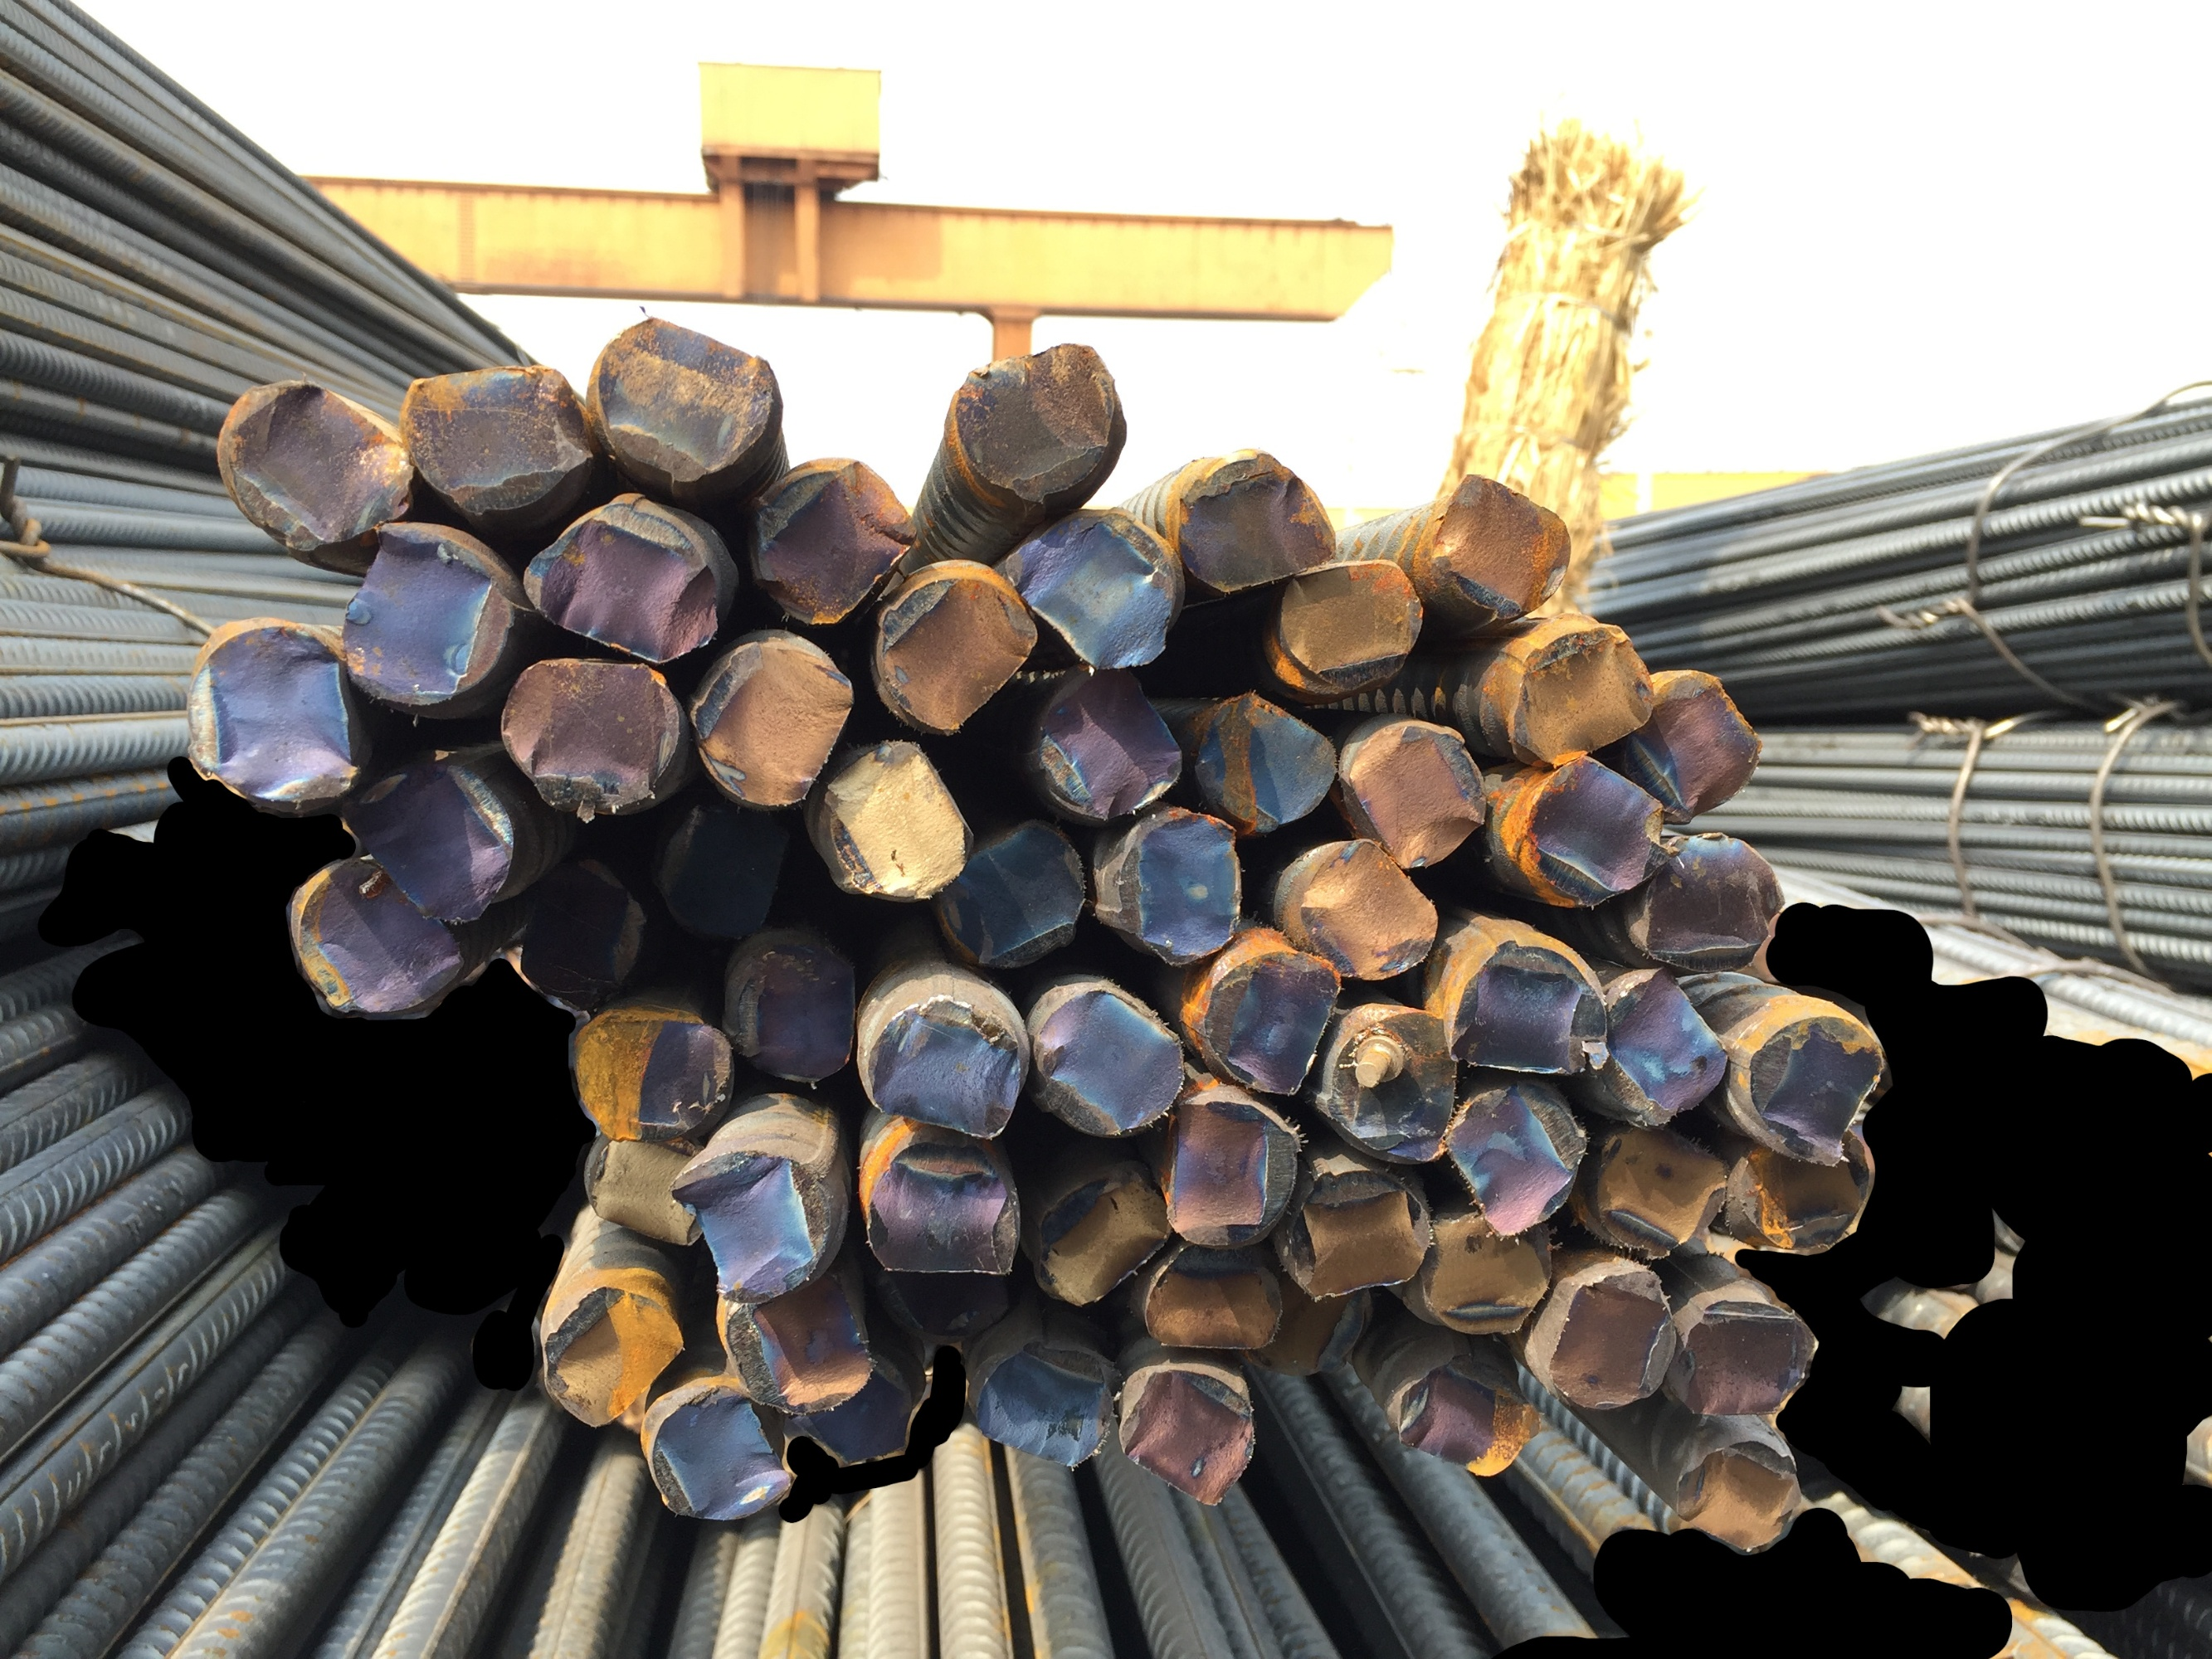rebar: (176, 608, 361, 817), (214, 366, 411, 556), (580, 315, 781, 502), (331, 507, 519, 702), (514, 477, 720, 655), (485, 640, 685, 814), (865, 545, 1042, 732), (746, 446, 924, 629), (695, 624, 865, 814), (396, 361, 591, 525), (288, 849, 467, 1023), (950, 336, 1130, 505), (343, 753, 525, 920), (675, 1133, 852, 1297), (814, 732, 980, 906), (1014, 505, 1180, 673), (640, 1370, 811, 1527), (716, 1255, 885, 1408), (1177, 450, 1346, 603), (570, 992, 741, 1143), (1747, 995, 1896, 1168), (1034, 974, 1192, 1136), (1457, 918, 1618, 1077), (865, 990, 1034, 1140), (1032, 652, 1191, 810), (495, 852, 655, 1007), (1189, 673, 1342, 833), (537, 1272, 692, 1429), (1426, 467, 1578, 627), (1522, 741, 1677, 896), (1156, 1084, 1306, 1243), (1199, 936, 1347, 1096), (938, 810, 1093, 962), (1347, 716, 1497, 870), (1450, 1073, 1595, 1232), (1604, 962, 1738, 1133), (866, 1134, 1034, 1269), (1299, 823, 1445, 976), (1515, 603, 1659, 758), (1642, 653, 1771, 823), (1325, 997, 1461, 1157), (1109, 800, 1246, 957), (1124, 1351, 1262, 1507), (1644, 817, 1790, 964), (1027, 1164, 1182, 1302), (1541, 1263, 1689, 1406), (657, 786, 797, 936), (732, 934, 863, 1093), (1680, 1288, 1830, 1422), (1293, 1159, 1442, 1291), (1731, 1121, 1883, 1249), (971, 1330, 1114, 1466), (1593, 1119, 1741, 1249), (1389, 1354, 1541, 1481), (1140, 1225, 1293, 1351), (784, 1330, 927, 1460), (1274, 559, 1429, 680), (577, 1122, 718, 1253), (1675, 1427, 1811, 1551), (1429, 1204, 1560, 1330), (1248, 1276, 1382, 1380), (879, 1249, 1021, 1326)
